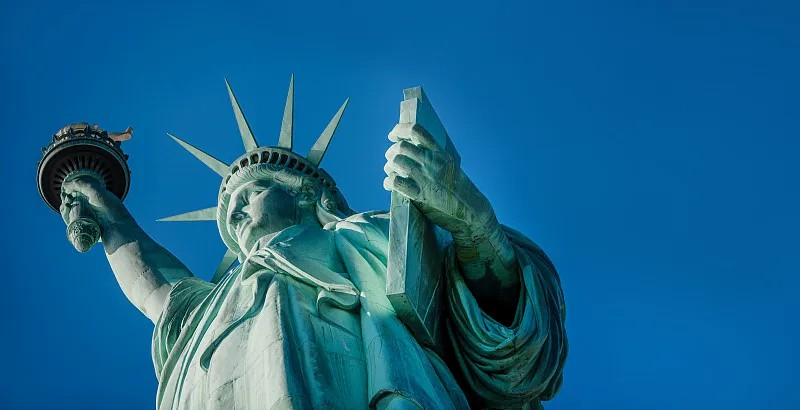SL: (35, 74, 569, 410)
